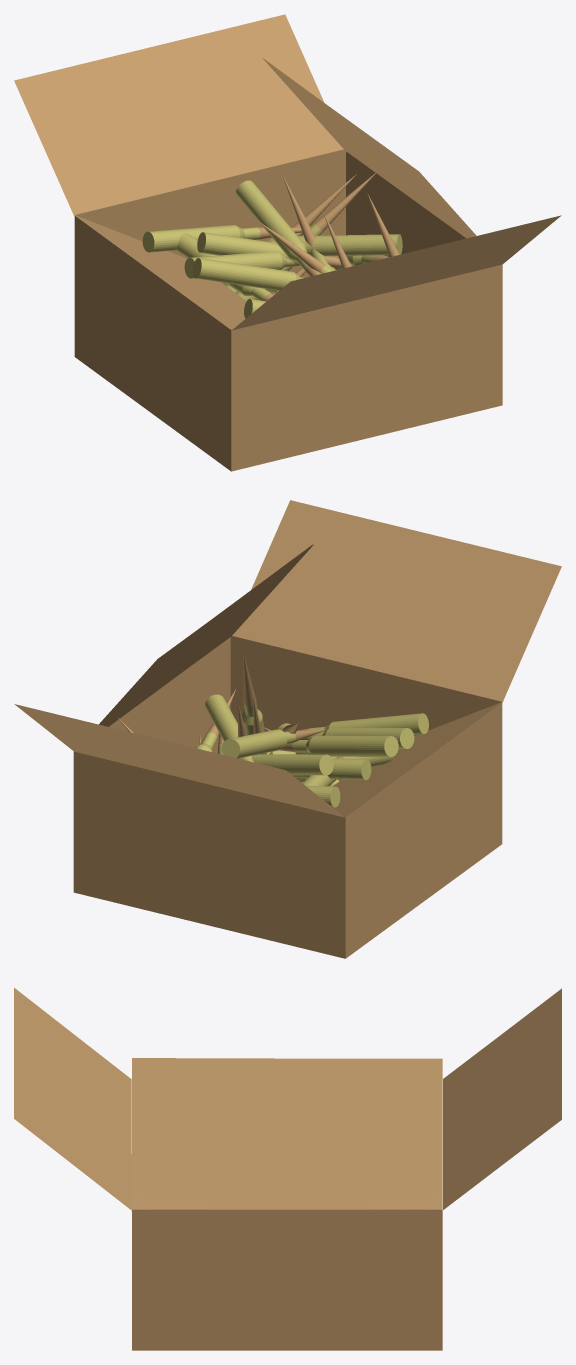
The model's file is Carton.fbx.
The picture shows the model from 3 angles, top to bottom: view 1: azimuth 30°, elevation 25°; view 2: azimuth 150°, elevation 25°; view 3: azimuth 270°, elevation 25°; orthographic projection.
Visible parts, largest first — view 1: Plan.004, Plan.006, Plan.016, Plan.012, Plan.002, Plan.011, Plan.003, Plan.010, Plan.005, Plan.015, Plan.001, Plan.013 (+11 smaller); view 2: Plan.003, Plan.005, Plan.015, Plan.010, Plan.002, Plan.004, Plan.011, Plan.012, Plan.009, Plan.006, Plan.016, Plan.008 (+11 smaller); view 3: Plan.001, Plan.013, Plan.007, Plan.009, Plan.006, Plan.016, Plan.005, Plan.015.
Part boxes in pixels (left/top/right/bottom): Plan.004: left=231, top=264, right=502, bottom=468; Plan.006: left=14, top=14, right=314, bottom=147; Plan.016: left=44, top=82, right=343, bottom=215; Plan.012: left=231, top=284, right=432, bottom=471; Plan.002: left=136, top=261, right=231, bottom=471; Plan.011: left=74, top=216, right=168, bottom=425; Plan.003: left=75, top=150, right=345, bottom=284; Plan.010: left=170, top=149, right=345, bottom=300; Plan.005: left=232, top=240, right=531, bottom=330; Plan.015: left=261, top=215, right=561, bottom=305; Plan.001: left=346, top=151, right=431, bottom=256; Plan.013: left=263, top=59, right=476, bottom=235; Plan.003: left=73, top=751, right=345, bottom=958; Plan.005: left=261, top=500, right=561, bottom=634; Plan.015: left=232, top=568, right=531, bottom=701; Plan.010: left=159, top=775, right=345, bottom=958; Plan.002: left=384, top=703, right=502, bottom=901; Plan.004: left=230, top=637, right=501, bottom=735; Plan.011: left=345, top=774, right=427, bottom=958; Plan.012: left=230, top=636, right=421, bottom=731; Plan.009: left=139, top=637, right=230, bottom=753; Plan.006: left=20, top=705, right=344, bottom=817; Plan.016: left=14, top=704, right=344, bottom=816; Plan.008: left=333, top=702, right=501, bottom=816; Plan.001: left=132, top=1209, right=388, bottom=1350; Plan.013: left=131, top=1058, right=346, bottom=1209; Plan.007: left=227, top=1058, right=442, bottom=1209; Plan.009: left=260, top=1209, right=442, bottom=1350; Plan.006: left=448, top=988, right=561, bottom=1206; Plan.016: left=443, top=1034, right=549, bottom=1209; Plan.005: left=14, top=987, right=72, bottom=1164; Plan.015: left=73, top=1034, right=131, bottom=1210.
Size of the model in its own units: 3012 by 2687 by 5292.
